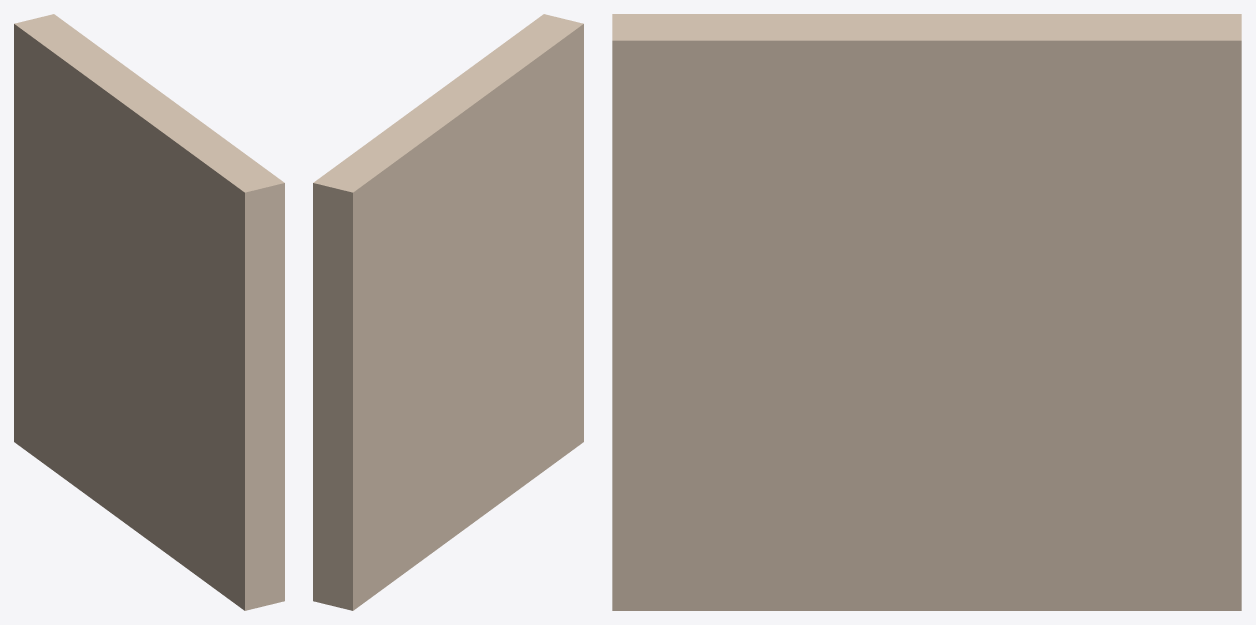
The model's file is Office-Room-4-Wall-1.fbx.
3 renders of one model, left to right at view 1: azimuth 30°, elevation 25°; view 2: azimuth 150°, elevation 25°; view 3: azimuth 270°, elevation 25°, orthographic. The views are drawn at different scales.
Parts seen in each view (by area): view 1: Office-Door-4-Wall; view 2: Office-Door-4-Wall; view 3: Office-Door-4-Wall.
Part boxes in pixels (<box>): Office-Door-4-Wall: <box>14,14,284,610</box>; Office-Door-4-Wall: <box>313,14,583,610</box>; Office-Door-4-Wall: <box>612,14,1241,610</box>.
Bounding box in the file's own units: 0.2 × 2 × 2.
